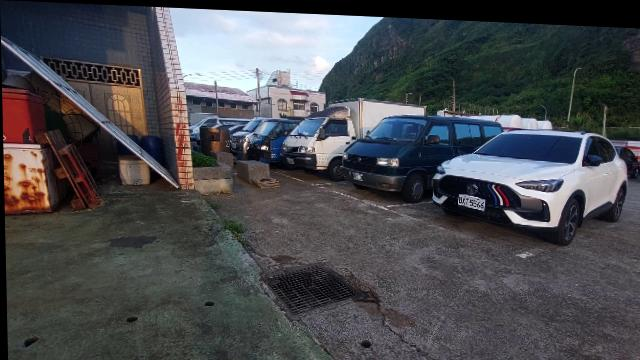pollute: (2, 69, 106, 217), (128, 133, 165, 165), (116, 153, 152, 185)
